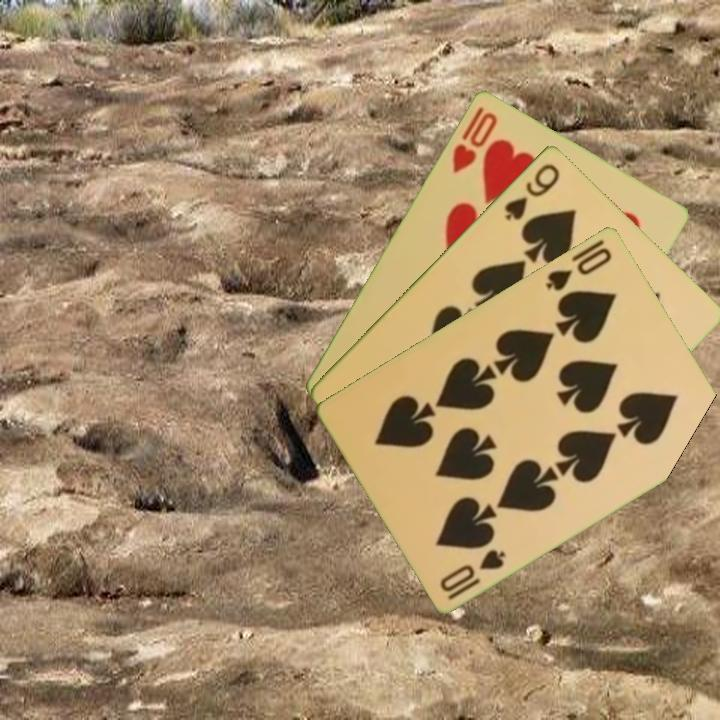10h: (448, 108, 501, 176)
10s: (436, 545, 509, 602), (542, 243, 615, 294)
9s: (501, 159, 563, 223)
